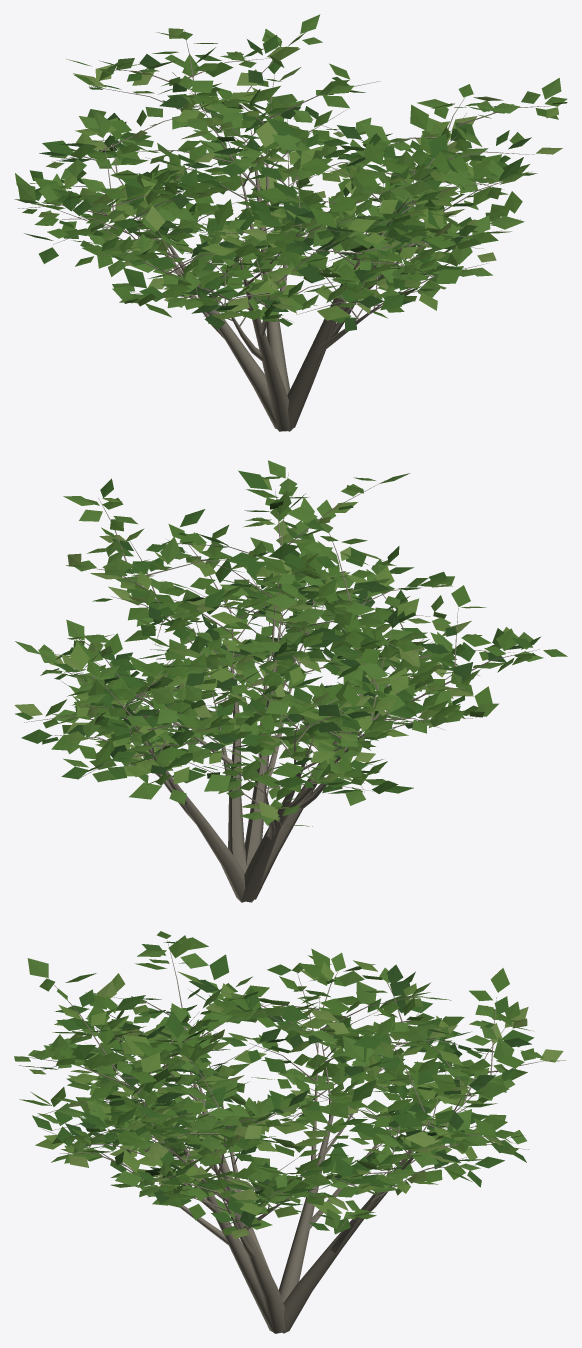
Rendered from shrub_03.glb.
3 renders of one model, top to bottom at view 1: azimuth 30°, elevation 25°; view 2: azimuth 150°, elevation 25°; view 3: azimuth 270°, elevation 25°, orthographic. The views are drawn at different scales.
Parts seen in each view (by area): view 1: Shrub_03_foliage, Shrub_03_stems; view 2: Shrub_03_foliage, Shrub_03_stems; view 3: Shrub_03_foliage, Shrub_03_stems.
Part boxes in pixels (box(x1,y1,x2,y2)): Shrub_03_foliage: box(14, 14, 567, 331); Shrub_03_stems: box(18, 30, 559, 431); Shrub_03_foliage: box(14, 460, 567, 826); Shrub_03_stems: box(24, 472, 539, 902); Shrub_03_foliage: box(14, 931, 565, 1239); Shrub_03_stems: box(19, 940, 549, 1333).
Size of the model in its own units: 1.82 by 1.23 by 1.75.
